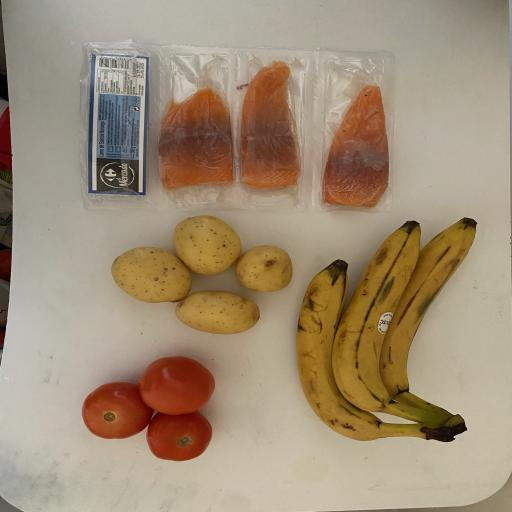banana: (330, 219, 453, 443), (294, 257, 437, 448), (382, 214, 490, 435)
potato: (109, 246, 198, 306), (170, 214, 247, 278), (173, 290, 263, 336), (233, 243, 296, 296)
salmon: (320, 81, 394, 211), (238, 60, 302, 191), (160, 85, 236, 192)
tomato: (137, 353, 218, 417), (80, 378, 152, 442), (144, 408, 218, 463)
